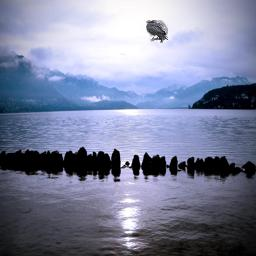Crow: (146, 20, 168, 43)
